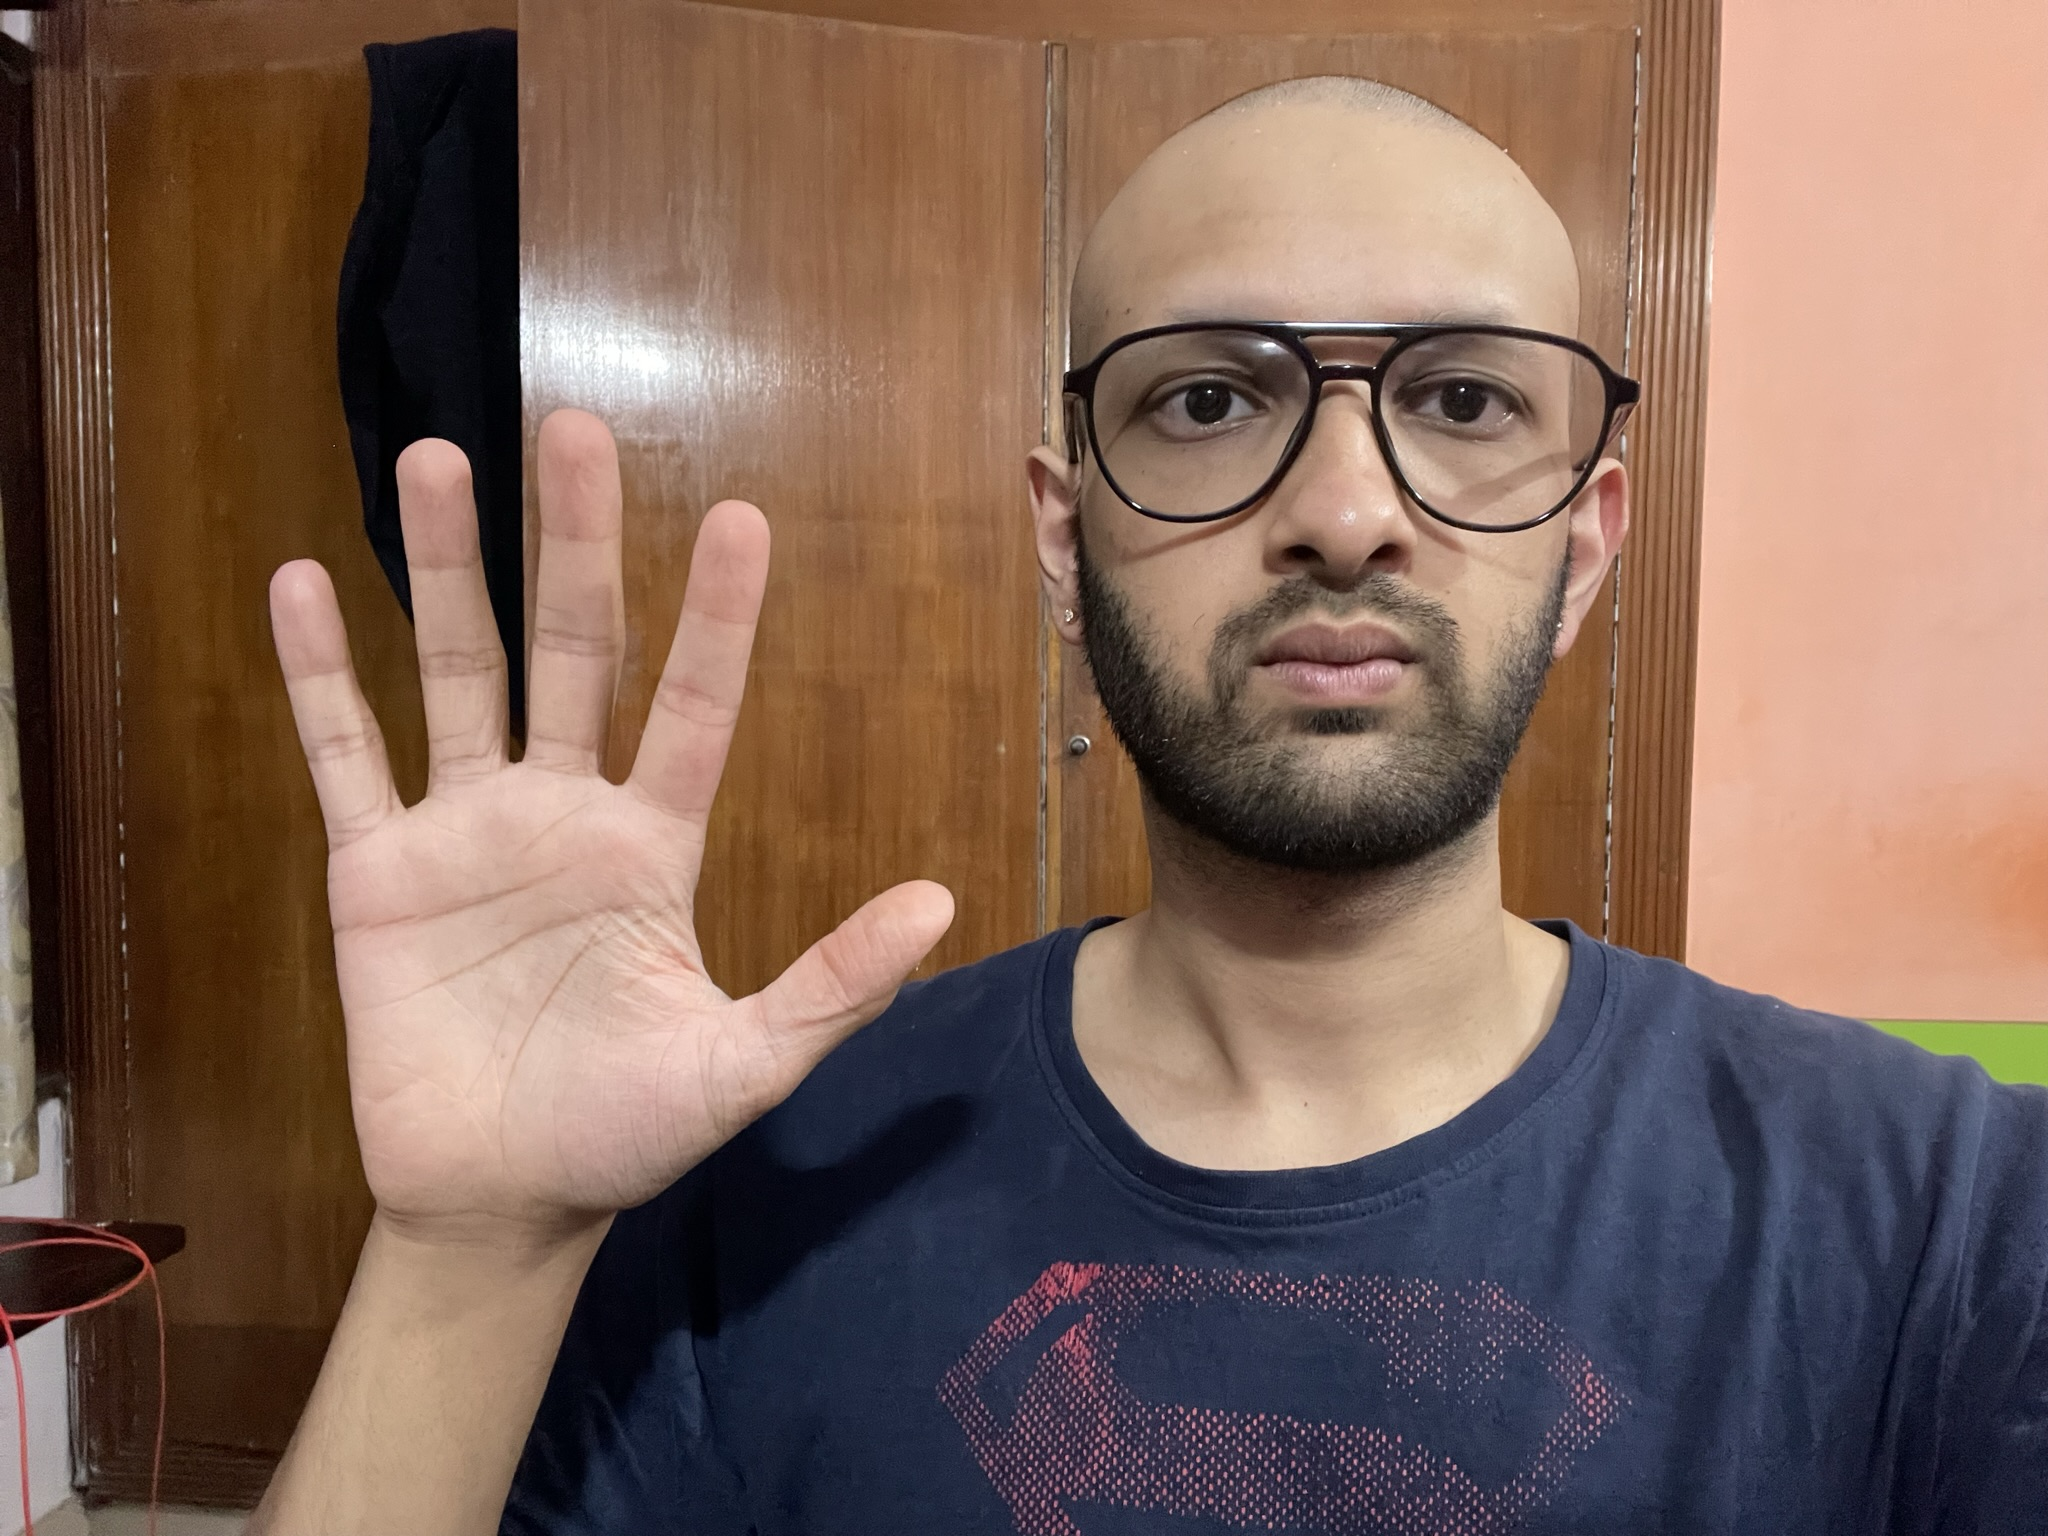Hello: (255, 402, 958, 1283)
